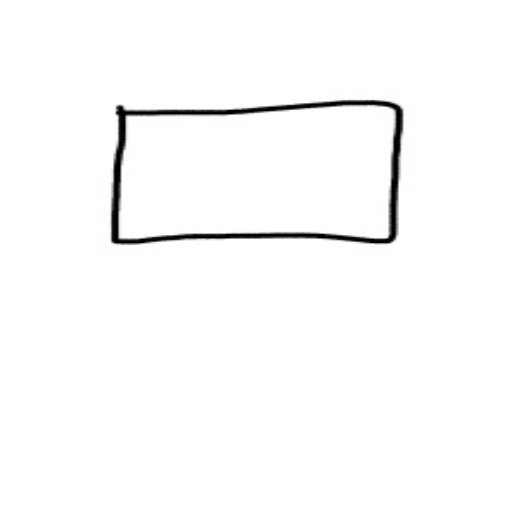rectangle: (102, 94, 416, 256)
